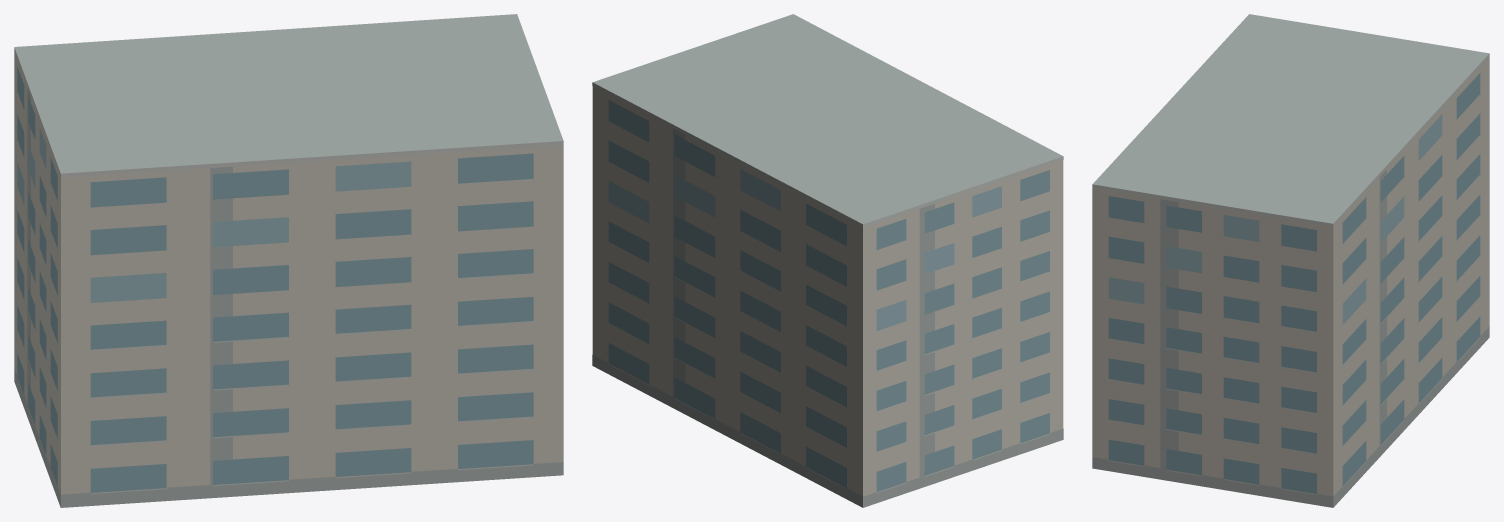
File: survey-upis-32892231.glb
3 views of the same model, side by side, from view 1: azimuth 30°, elevation 25°; view 2: azimuth 150°, elevation 25°; view 3: azimuth 270°, elevation 25° (orthographic). The views are drawn at different scales.
Parts seen in each view (by area): view 1: survey-upis-32892231.tmp; view 2: survey-upis-32892231.tmp; view 3: survey-upis-32892231.tmp.
Part boxes in pixels (bbox=[...]): survey-upis-32892231.tmp: bbox=[14, 14, 563, 507]; survey-upis-32892231.tmp: bbox=[592, 14, 1063, 507]; survey-upis-32892231.tmp: bbox=[1092, 14, 1489, 507].
Size of the model in its own units: 30.39 by 19.19 by 24.32.
